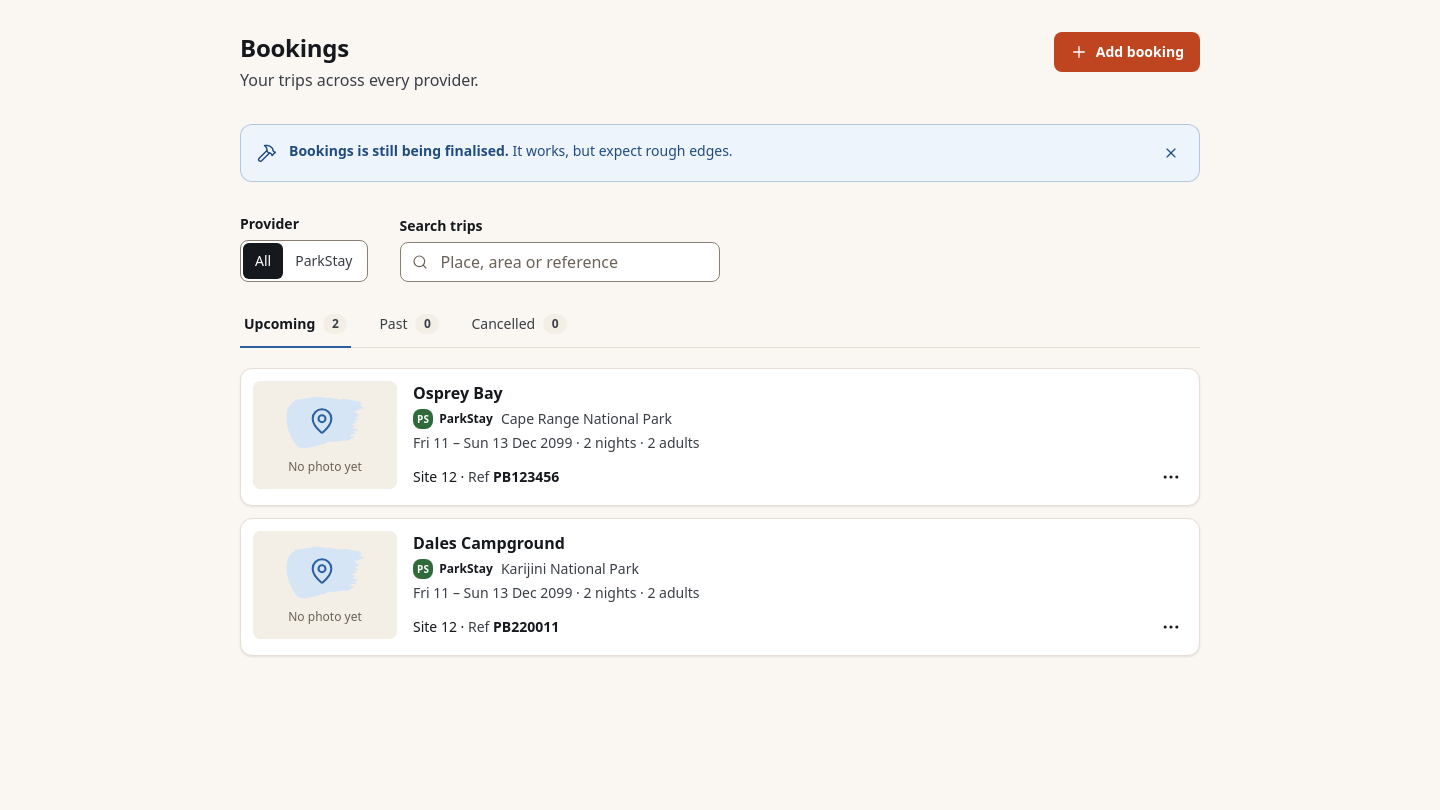
Test case: BookingsPage actions › keeps the booking and shows an error toast when removing fails
Click the button named "More actions for Osprey Bay". click: (1171,477)
box: [1155,461,1187,493]
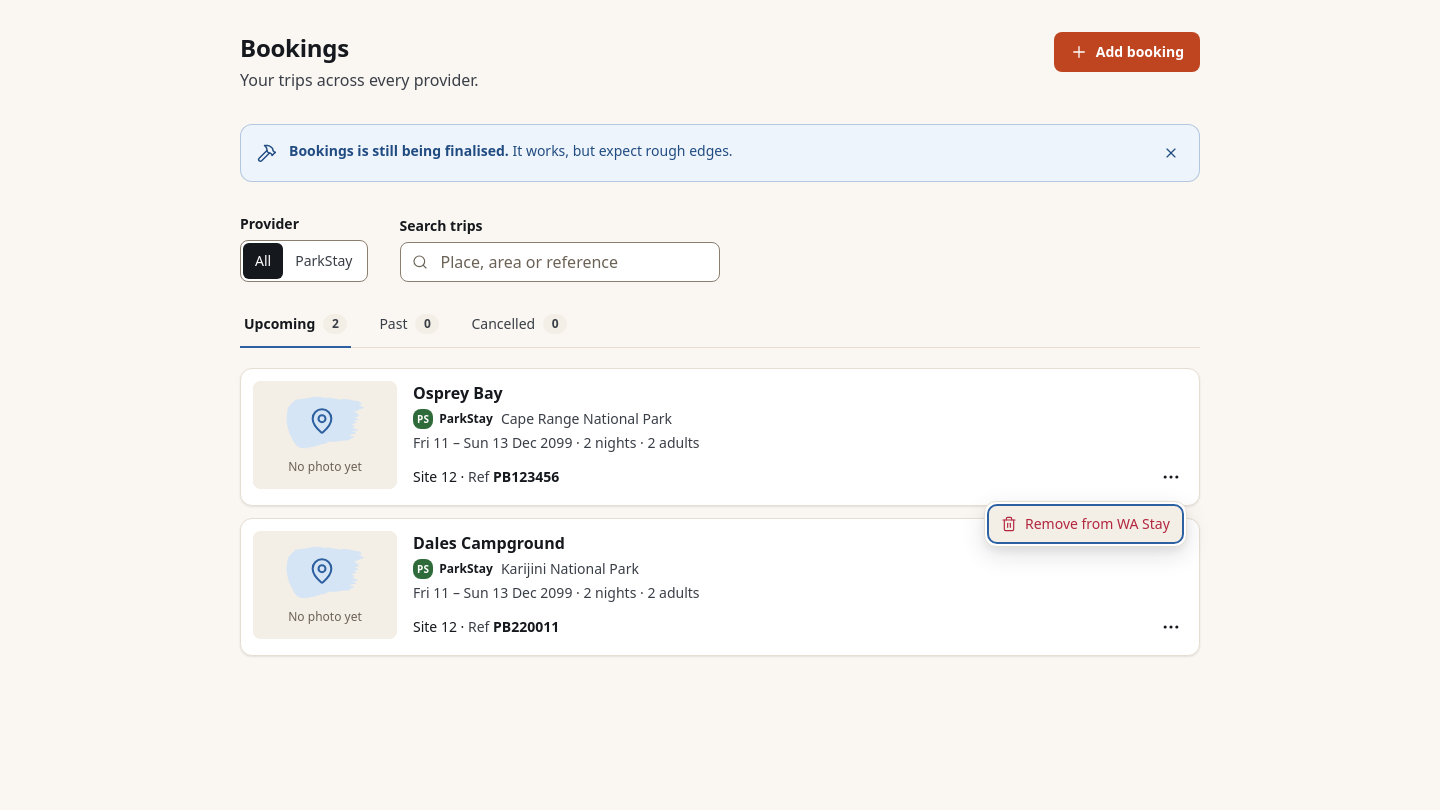
Click the menu item "Remove from WA Stay". click: (1085,524)
box: [989,506,1182,542]
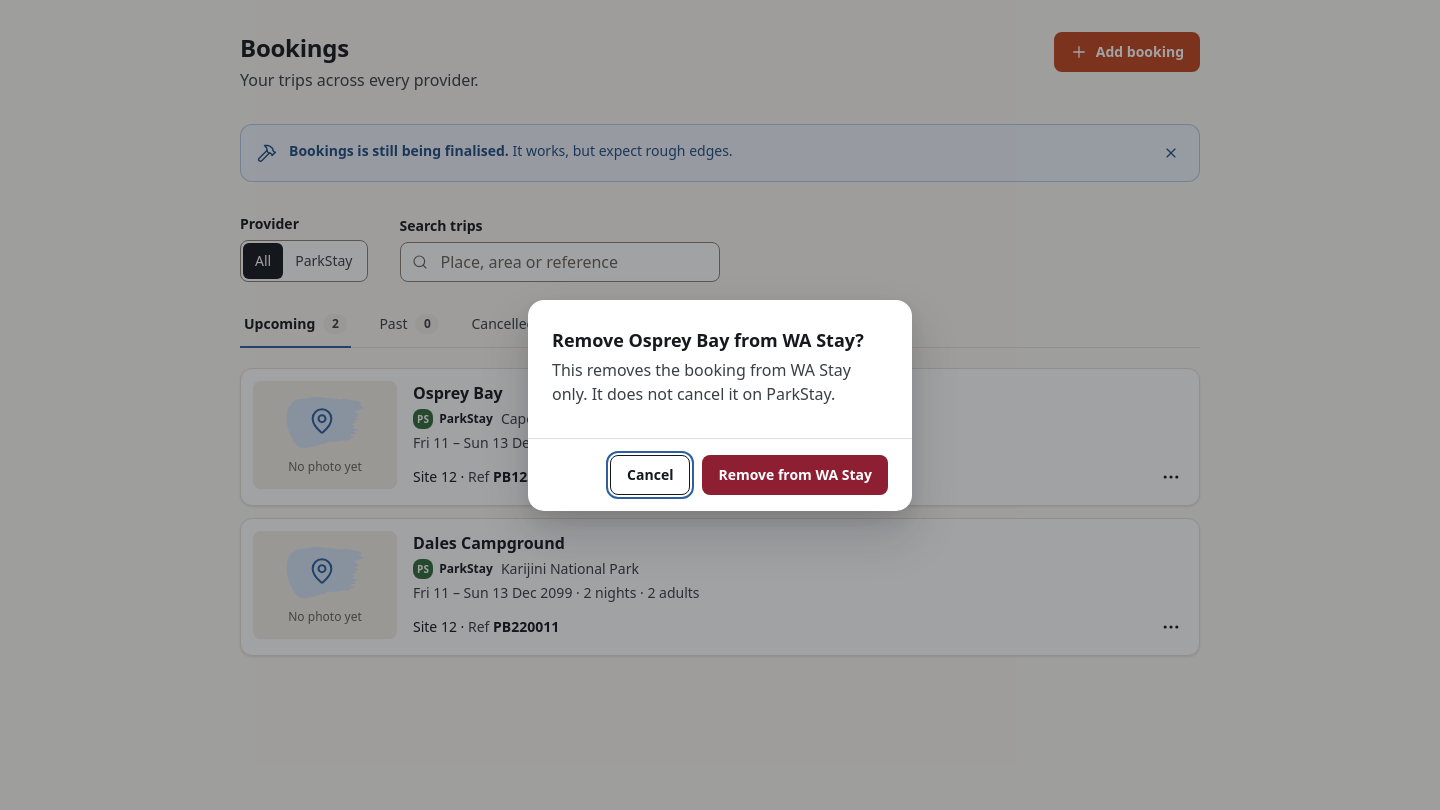
Click the button "Remove from WA Stay". click: (795,474)
box: [702,454,888,494]
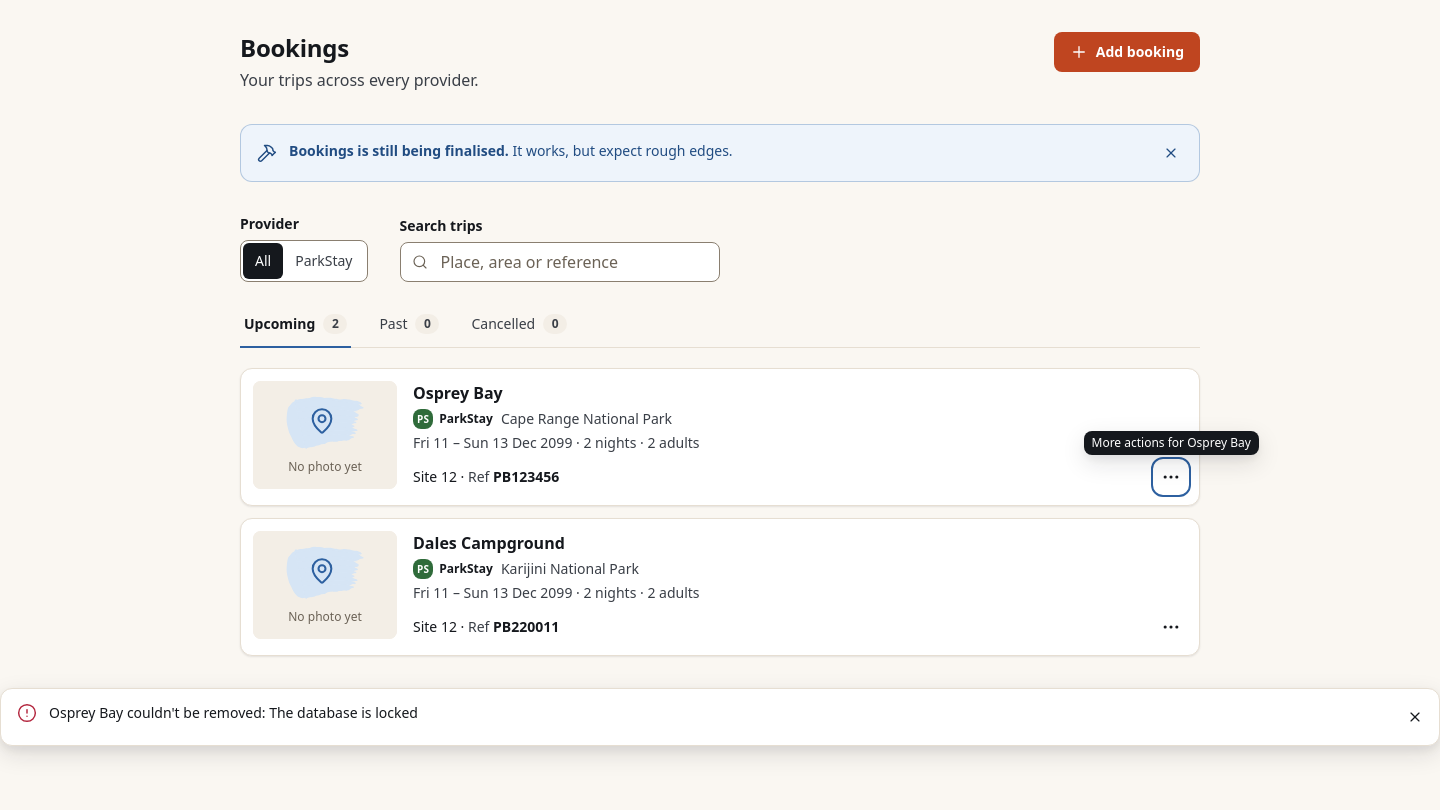
Expected: the element "Osprey Bay" is shown, [240,368,1200,506]
Now the text "Osprey Bay couldn't be removed: The database is locked" is shown, box [49,703,418,722]
Now the dialog is gone
